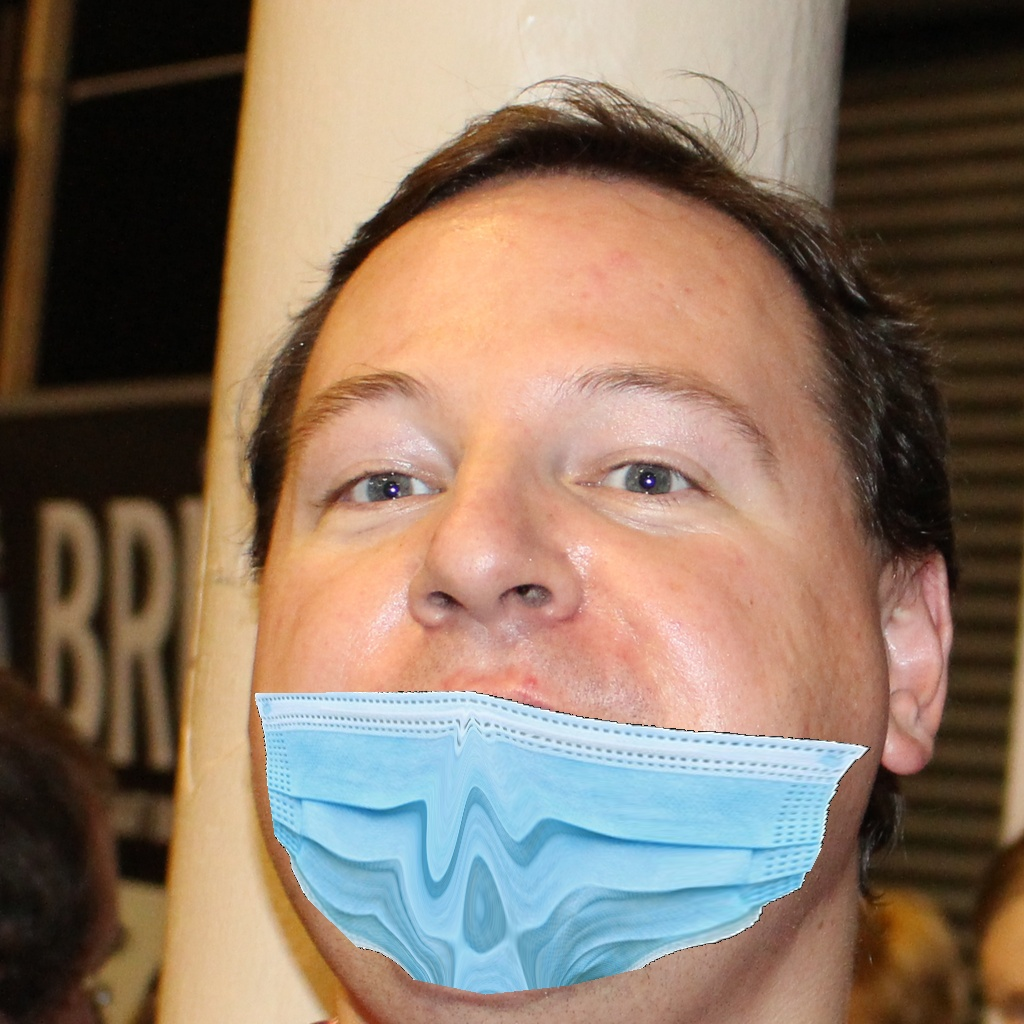mascarilla_mal_puesta: (302, 423, 842, 973)
